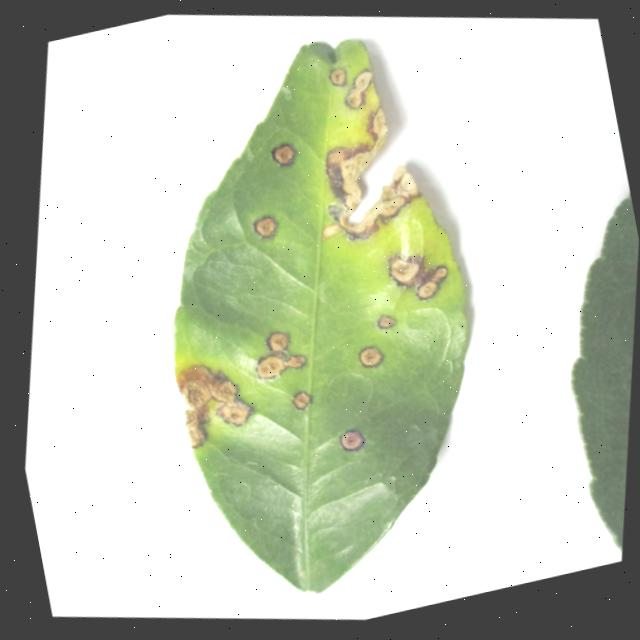antracnose: (174, 39, 466, 591), (322, 154, 419, 237), (177, 364, 252, 446), (389, 253, 447, 298), (326, 146, 355, 186), (257, 354, 306, 377), (389, 255, 419, 284), (271, 142, 295, 165), (339, 428, 364, 450), (253, 215, 277, 237), (372, 108, 386, 144), (359, 345, 382, 365), (266, 330, 289, 350), (345, 87, 364, 107), (292, 390, 312, 409), (354, 69, 372, 90), (329, 67, 346, 84), (377, 314, 395, 327)
